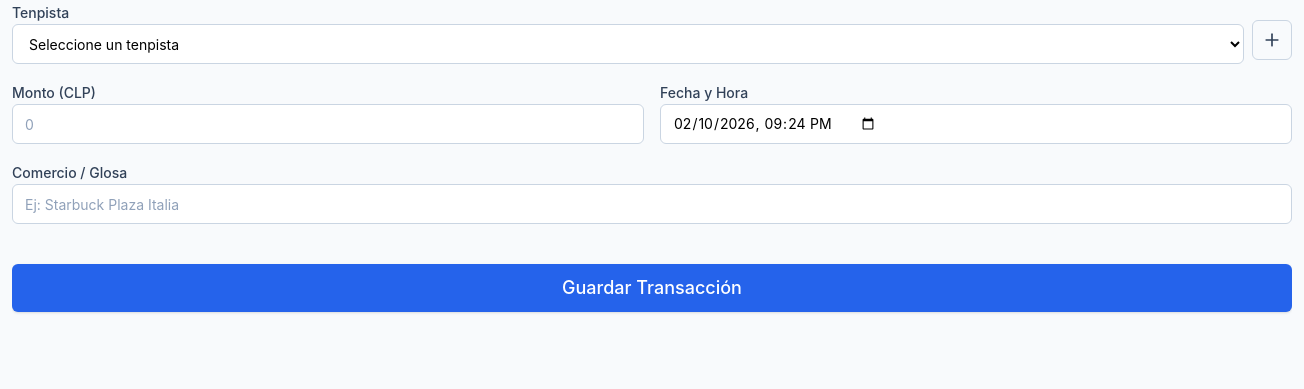
Test: TransactionForm Component › displays backend error message when submission fails
The width and height of the screenshot is (1304, 389).
Step 1. Select "Tenpista 1" in the dropdown labelled "Tenpista" → (628, 44), box [12, 24, 1244, 64]
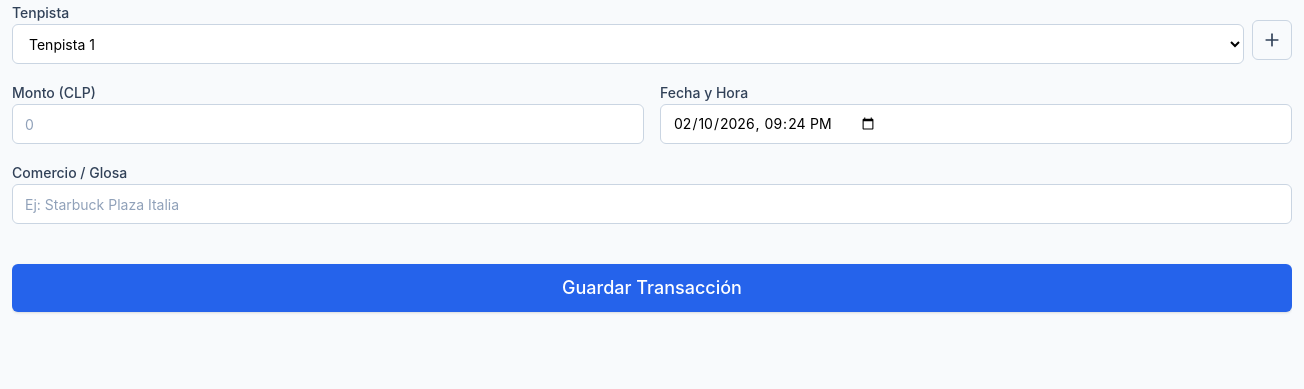
Step 2. Type "5000" into the number field labelled "Monto (CLP)" → (328, 124), box [12, 104, 644, 144]
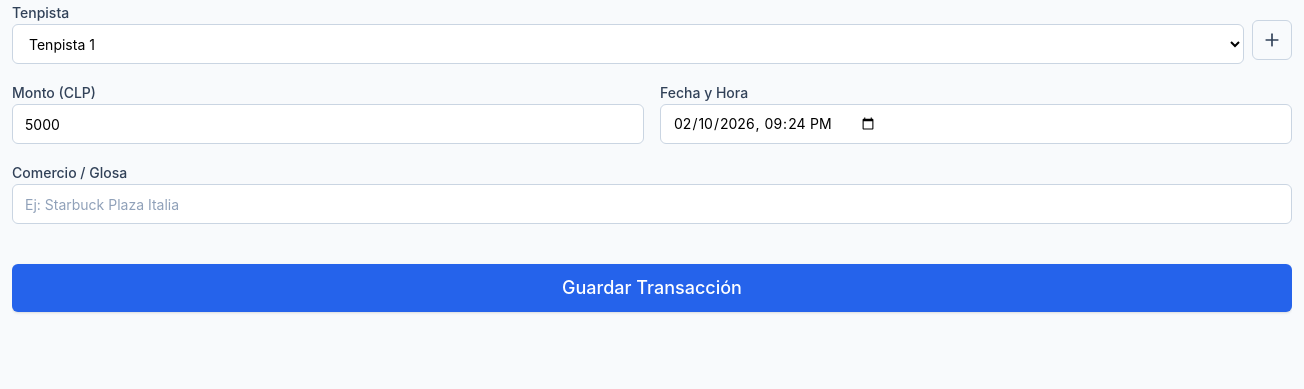
Step 3. Type "Test Store" into the field labelled "Comercio / Glosa" → (652, 204), box [12, 184, 1292, 224]
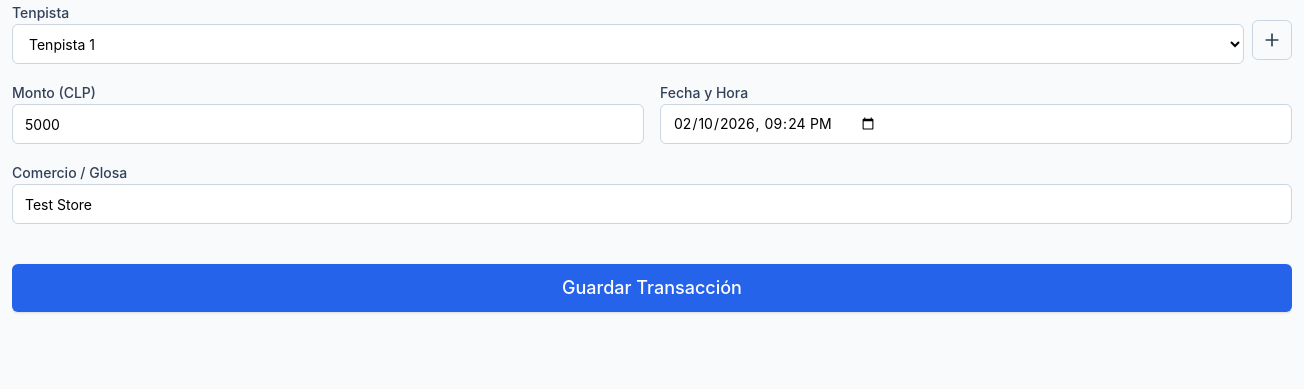
Step 4. Click the button "Guardar Transacción" → click(652, 288), box [12, 264, 1292, 312]
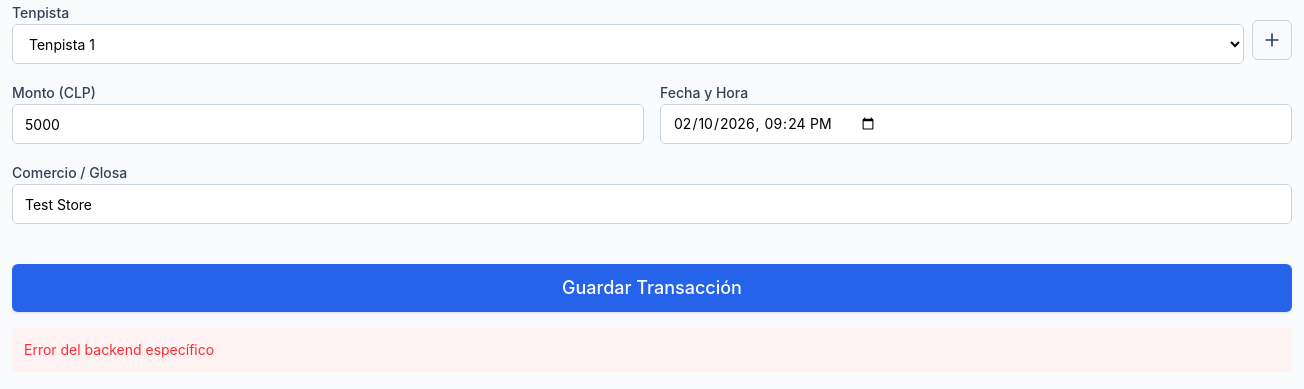
expect the text "Error del backend específico" is shown: met, box [12, 328, 1292, 372]
